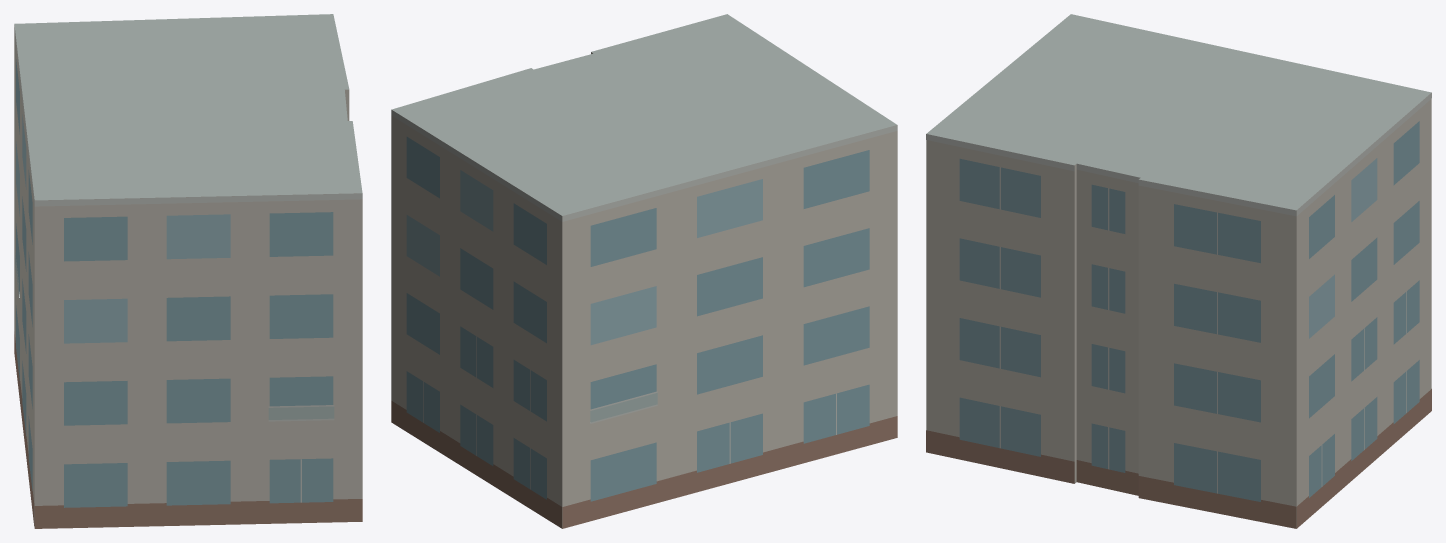
Rendered from survey-upis-32745133.glb.
The picture shows the model from 3 angles, left to right: view 1: azimuth 30°, elevation 25°; view 2: azimuth 150°, elevation 25°; view 3: azimuth 270°, elevation 25°; orthographic projection. The views are drawn at different scales.
Visible parts, largest first — view 1: survey-upis-32745133.tmp; view 2: survey-upis-32745133.tmp; view 3: survey-upis-32745133.tmp.
Boxes of the visible parts, x1,y1,x2,y2 form: survey-upis-32745133.tmp: [14, 14, 362, 528]; survey-upis-32745133.tmp: [391, 14, 897, 528]; survey-upis-32745133.tmp: [926, 14, 1431, 528].
Size of the model in its own units: 17.2 by 13 by 18.71.
